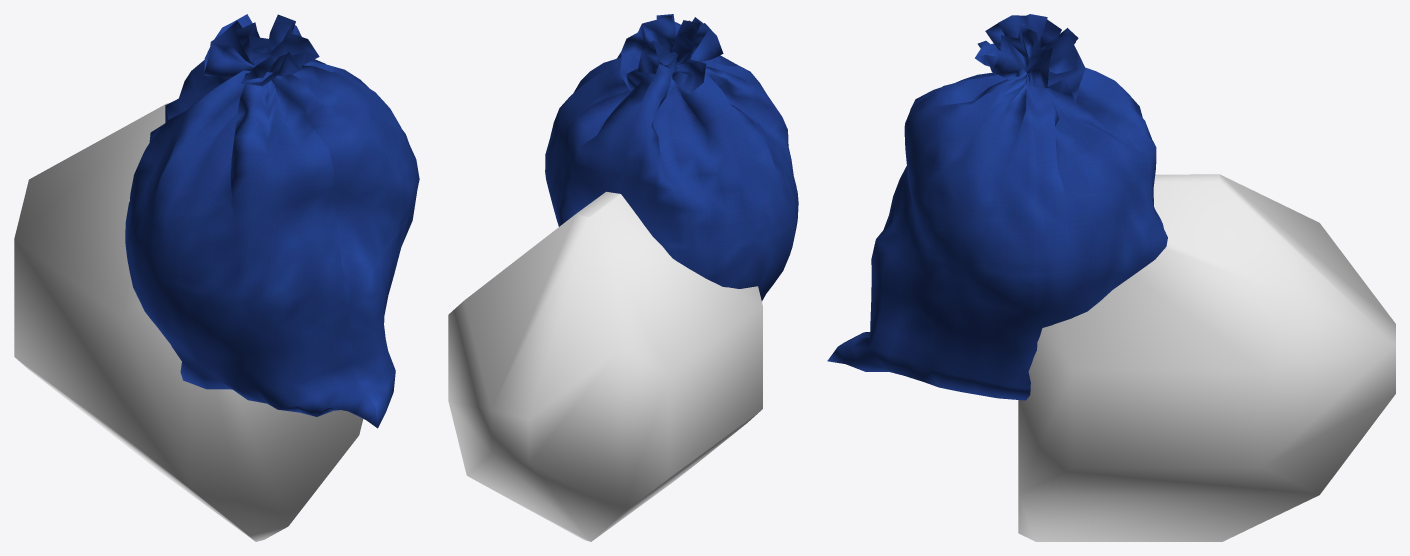
File: SM_TrashBag_02.fbx
3 views of the same model, side by side, from view 1: azimuth 30°, elevation 25°; view 2: azimuth 150°, elevation 25°; view 3: azimuth 270°, elevation 25° (orthographic). The views are drawn at different scales.
Parts seen in each view (by area): view 1: SM_TrashBag_02, SM_TrashBag_02_ConvexHulls; view 2: SM_TrashBag_02_ConvexHulls, SM_TrashBag_02; view 3: SM_TrashBag_02_ConvexHulls, SM_TrashBag_02.
Boxes of the visible parts, bbox=[...] form: SM_TrashBag_02: bbox=[125, 14, 419, 428]; SM_TrashBag_02_ConvexHulls: bbox=[14, 103, 363, 541]; SM_TrashBag_02_ConvexHulls: bbox=[448, 191, 762, 541]; SM_TrashBag_02: bbox=[545, 14, 798, 300]; SM_TrashBag_02_ConvexHulls: bbox=[1018, 174, 1395, 541]; SM_TrashBag_02: bbox=[827, 14, 1167, 400].
Size of the model in its own units: 0.6376 by 1.23 by 1.22.
